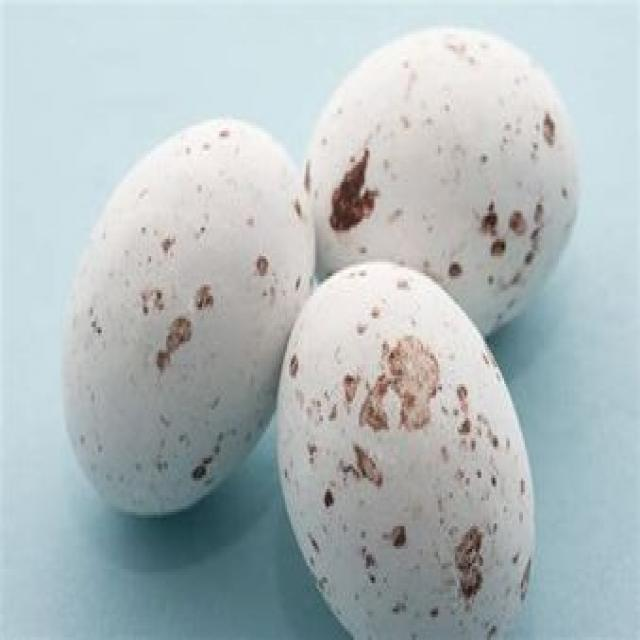Egg: (55, 112, 328, 516)
